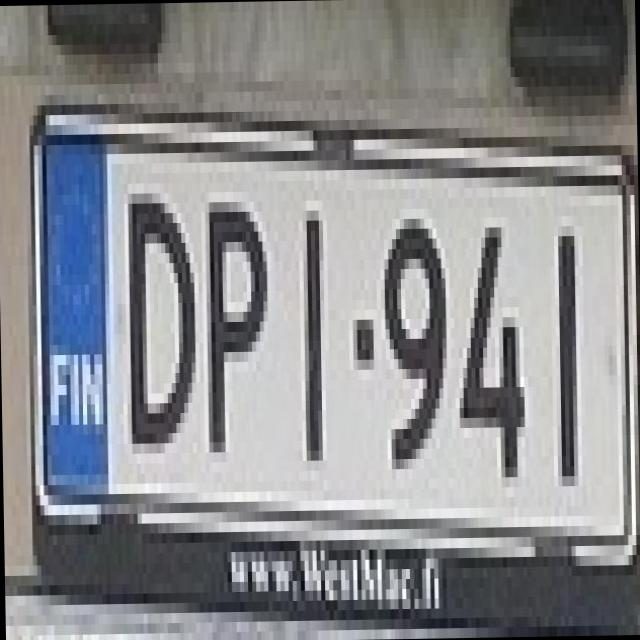1: (269, 180, 335, 461), (528, 206, 594, 477)
4: (444, 207, 530, 468)
9: (370, 198, 452, 459)
D: (111, 172, 197, 444)
P: (192, 181, 274, 452)
